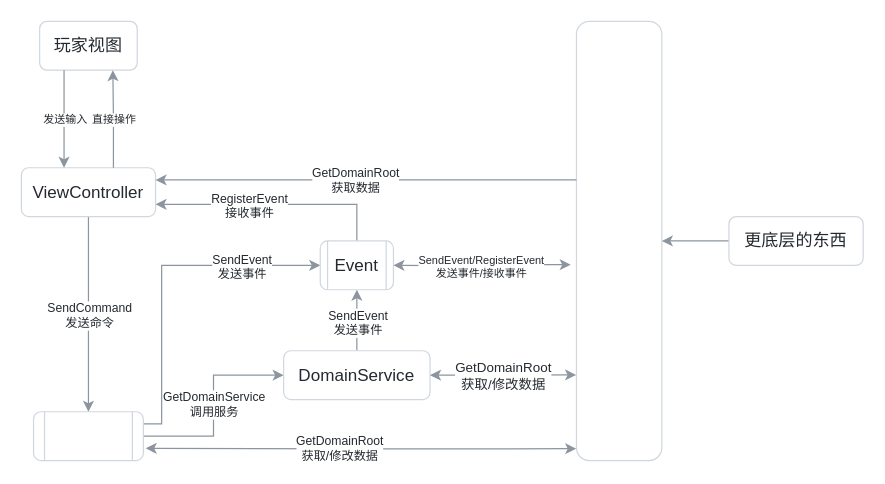
This 885x484 diagram has some shape labels left out. Here are the shapes that lost their labels. From the top down, the centre of each, then its label:
At [618,240]: "Domain".
At [87,436]: "Command".
